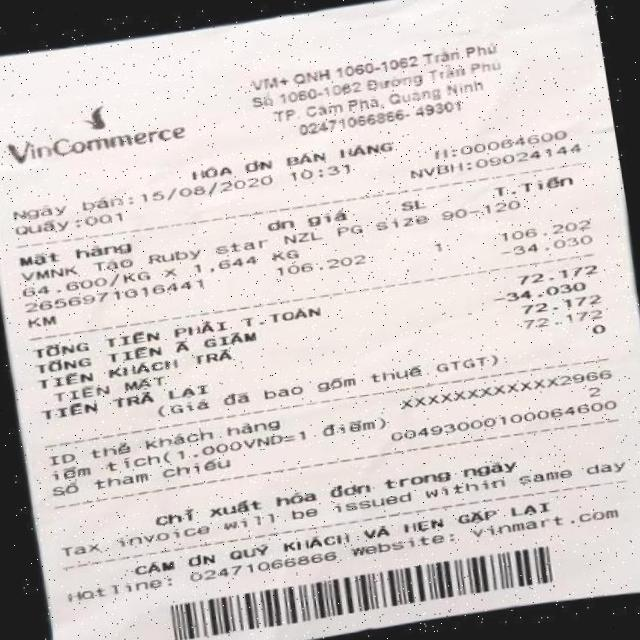Date: (137, 168, 282, 210)
Store_Name: (0, 80, 198, 179)
amount_number: (514, 258, 600, 290)
label_total: (28, 300, 330, 366)
